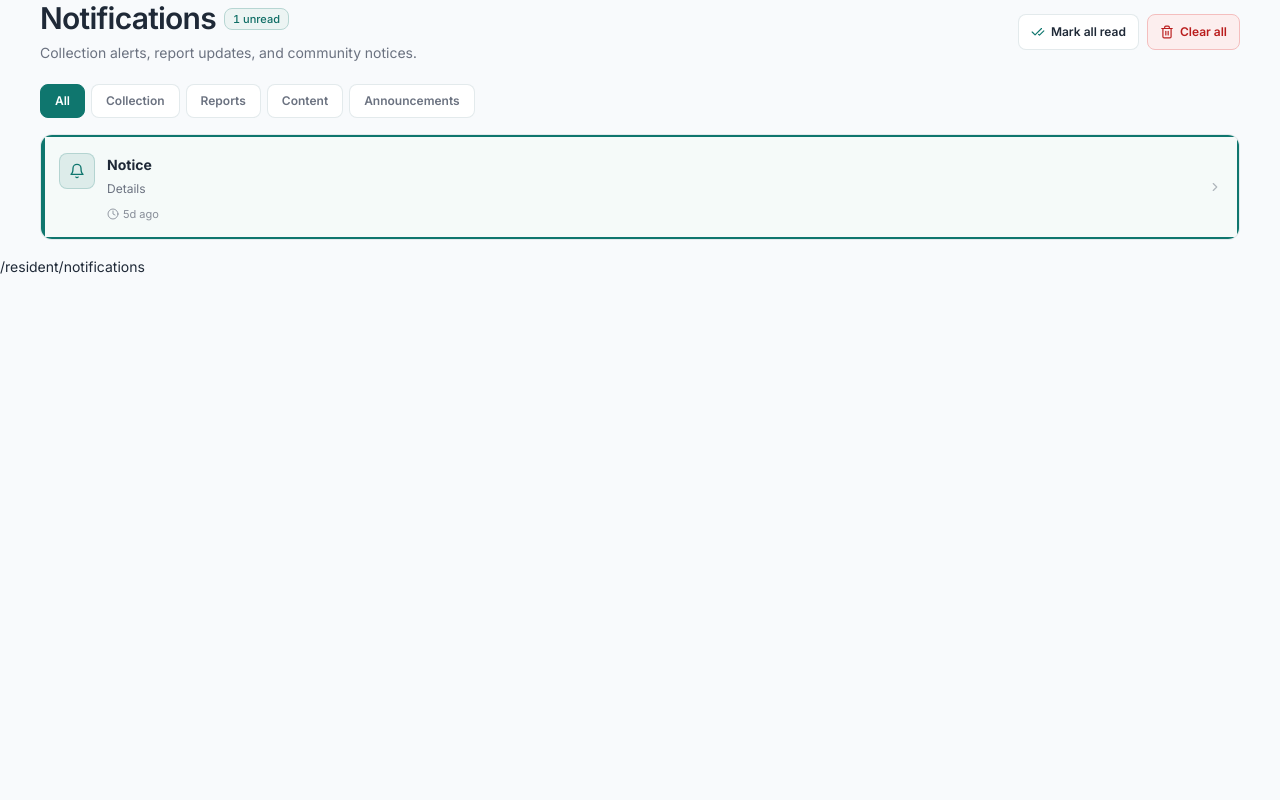
Test: opens a focusable unread notification and marks only that notification as read
The image size is (1280, 800).
Expected: the heading "Notifications" is shown, [40, 0, 216, 38]
Expected: the header shows "1 unread", [40, 0, 1240, 64]
What coordinates should you click on to do the following:
click the button "Notice Details 5d ago"
I would click on:
 (77, 171)
Its box is [41, 135, 1239, 239].
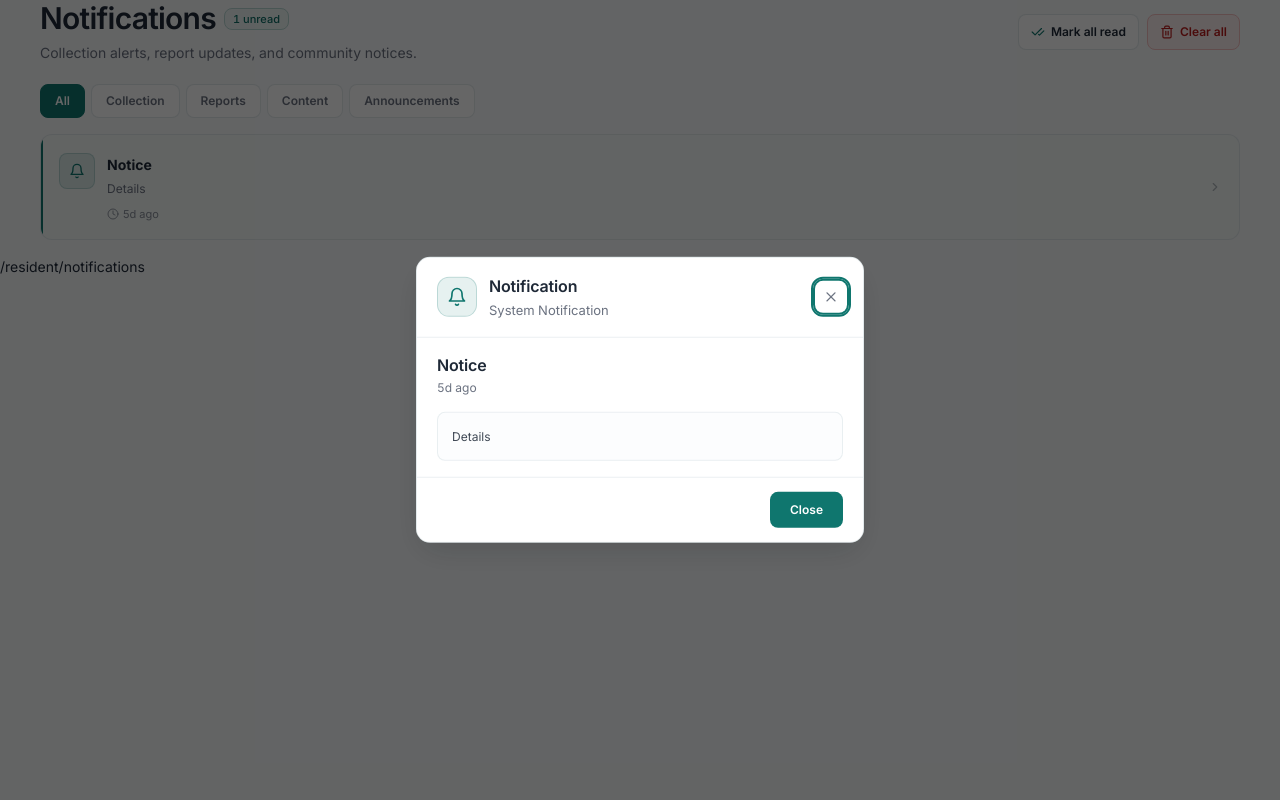
Expected: the dialog shows "Details", [452, 429, 490, 444]
